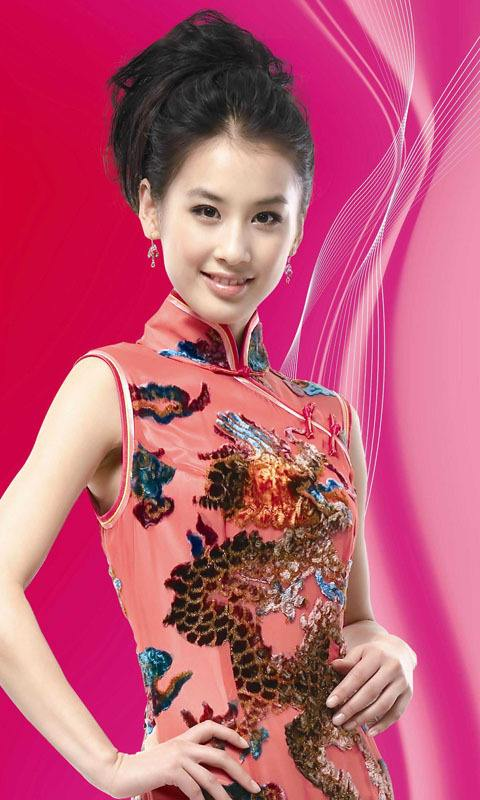person: (108, 26, 381, 800)
